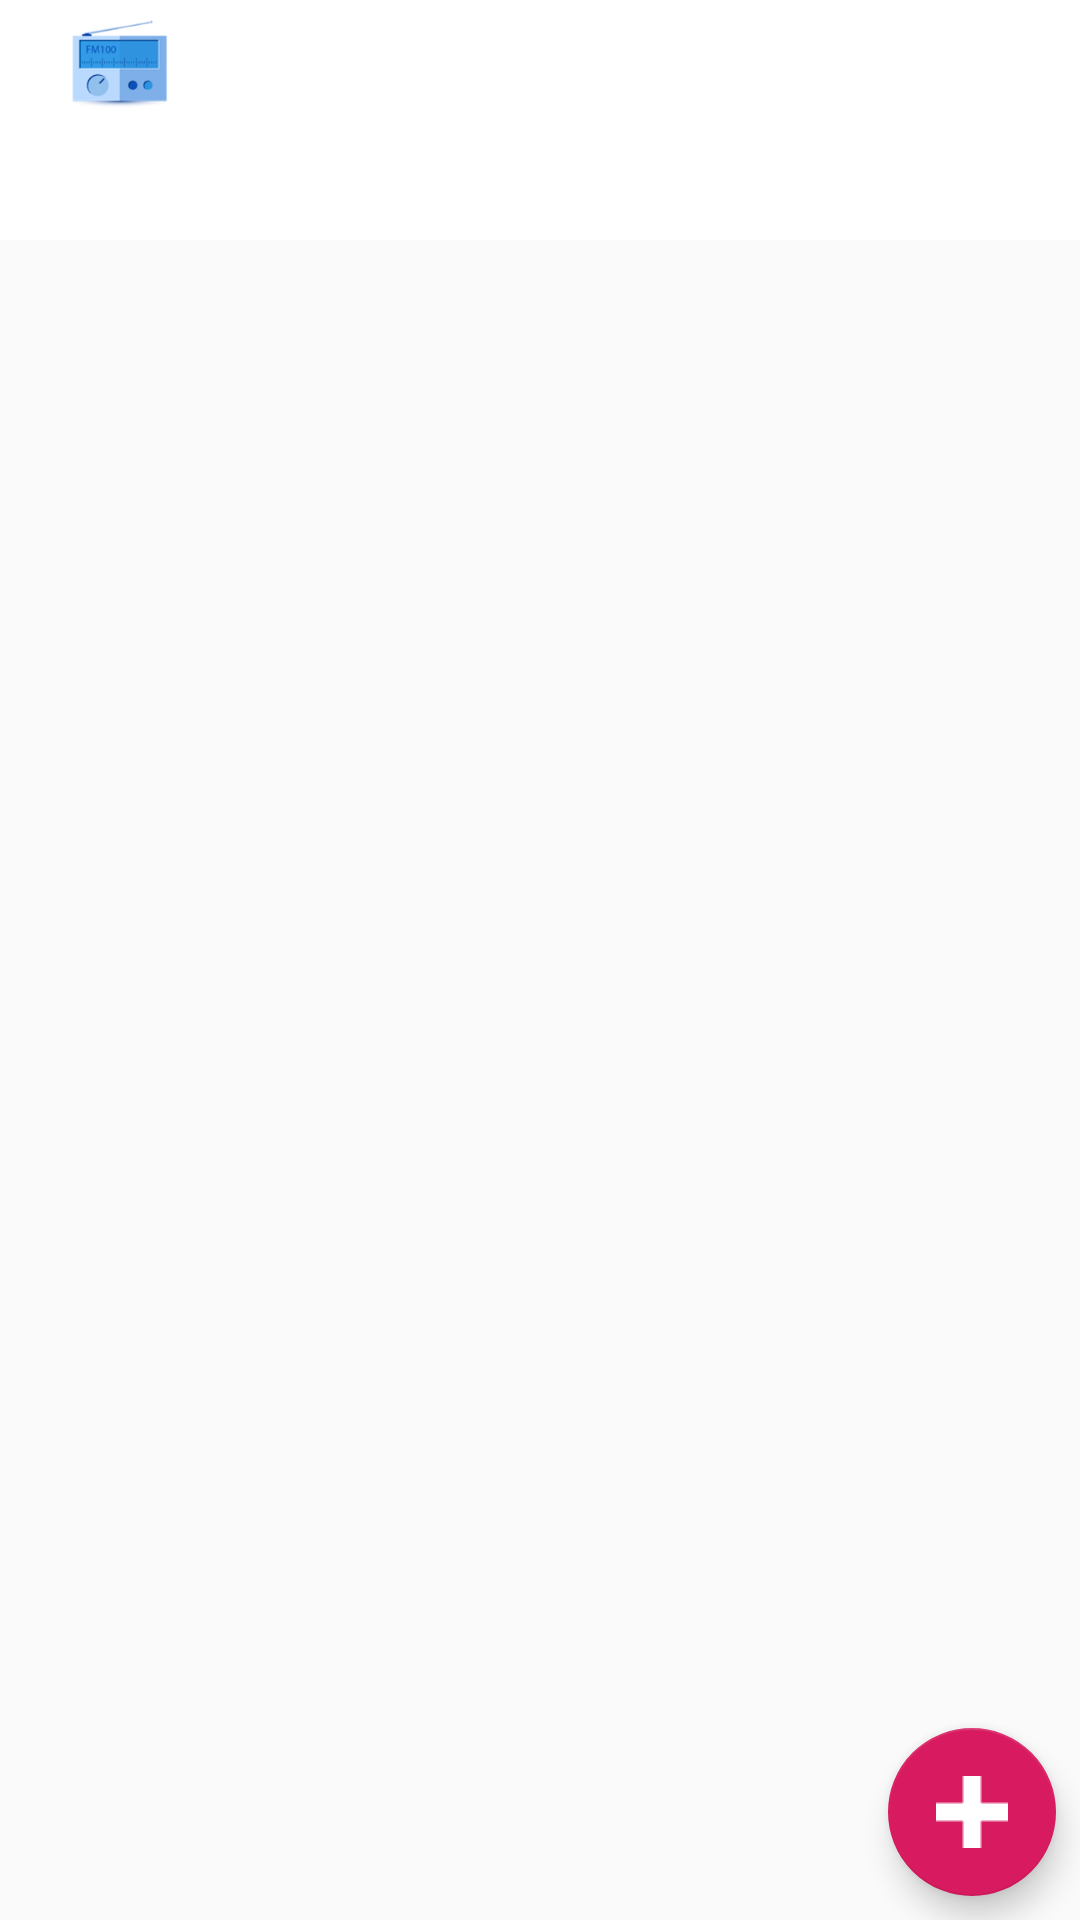

Icon bounding boxes for this 1080 × 1920 phone screenshot, format (x1,y1,x2,y2):
add radio: (888,1728,1056,1896)
